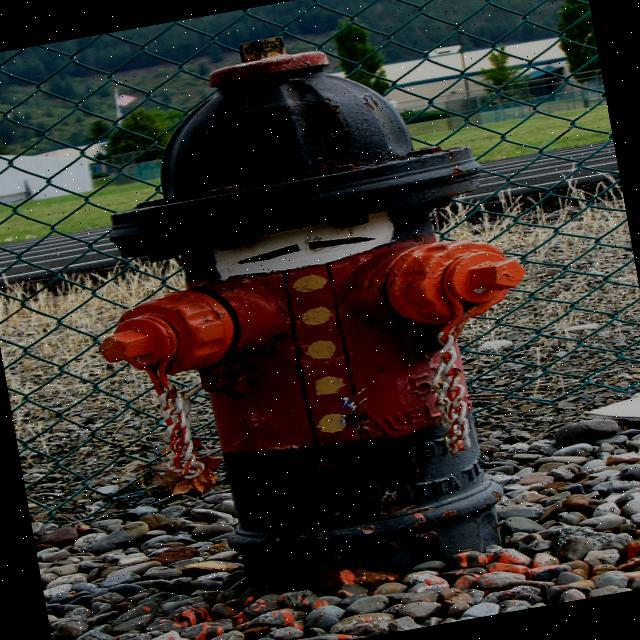fire_hydrant: (51, 4, 578, 617)
